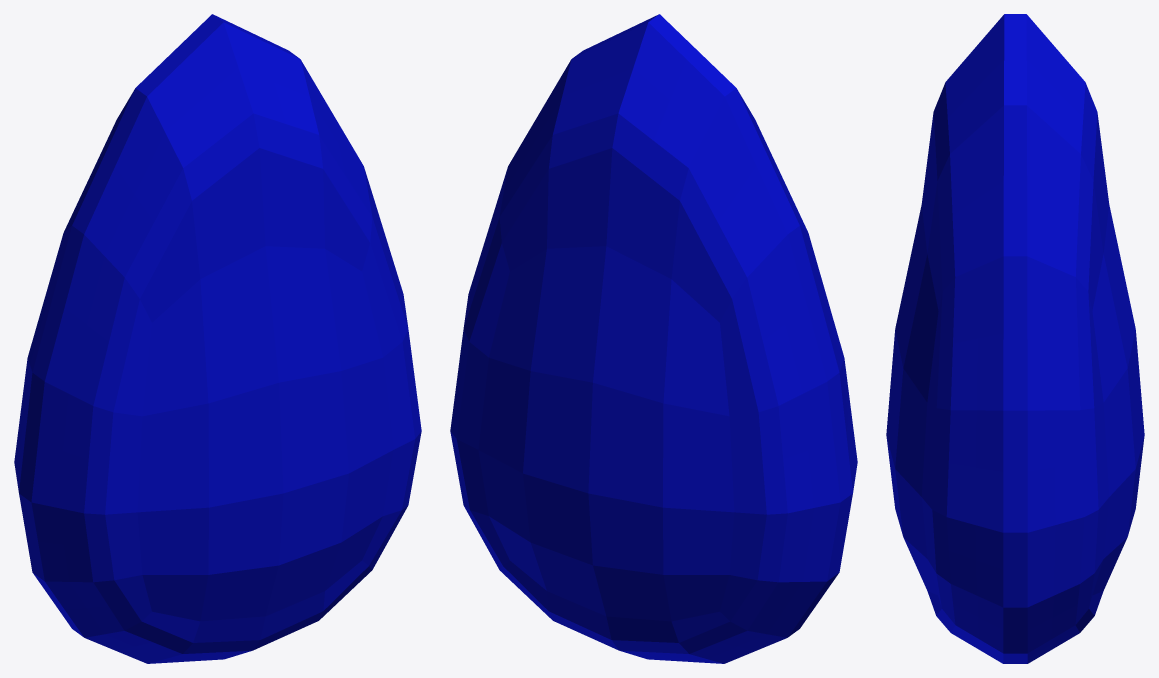
File: sapphire.glb
The picture shows the model from 3 angles, left to right: view 1: azimuth 30°, elevation 25°; view 2: azimuth 150°, elevation 25°; view 3: azimuth 270°, elevation 25°; orthographic projection.
Visible parts, largest first — view 1: Cube; view 2: Cube; view 3: Cube.
Part boxes in pixels (x1,y1,x2,y2): Cube: (14, 14, 421, 663); Cube: (450, 14, 857, 663); Cube: (886, 14, 1144, 663).
Bounding box in the file's own units: 0.0918 × 0.1448 × 0.0541.
